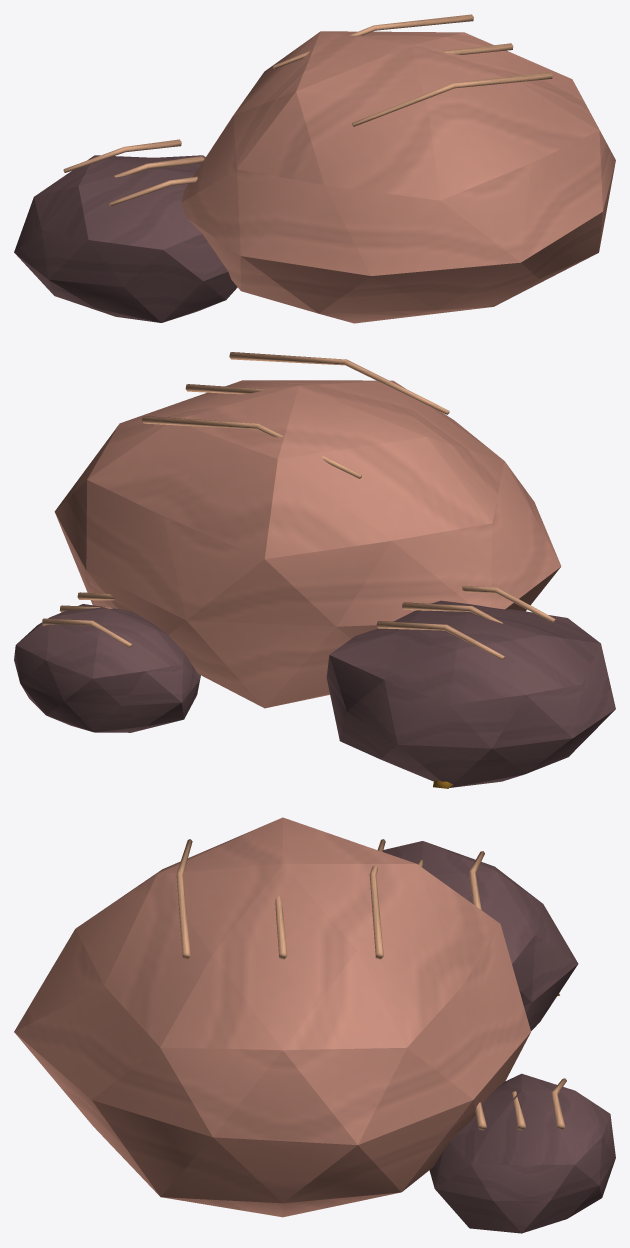
File: PilotBoulder_0.fbx
The picture shows the model from 3 angles, top to bottom: view 1: azimuth 30°, elevation 25°; view 2: azimuth 150°, elevation 25°; view 3: azimuth 270°, elevation 25°; orthographic projection. The views are drawn at different scales.
Parts seen in each view (by area): view 1: PilotBoulder_0__Geometry; view 2: PilotBoulder_0__Geometry; view 3: PilotBoulder_0__Geometry.
Boxes of the visible parts, left/top/right/bottom form: PilotBoulder_0__Geometry: left=14, top=14, right=615, bottom=323; PilotBoulder_0__Geometry: left=14, top=352, right=615, bottom=788; PilotBoulder_0__Geometry: left=14, top=817, right=615, bottom=1233.
Bounding box in the file's own units: 1.61 × 0.7268 × 1.34.
